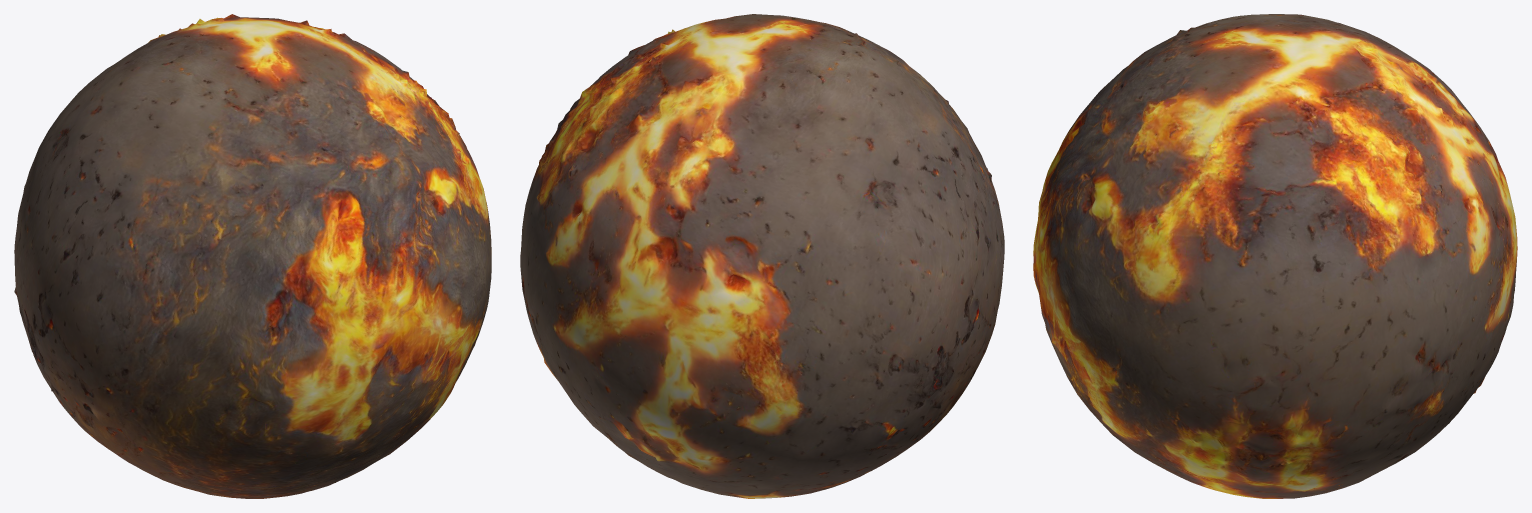
File: fiery_cannonball_medium_quality.glb
The picture shows the model from 3 angles, left to right: view 1: azimuth 30°, elevation 25°; view 2: azimuth 150°, elevation 25°; view 3: azimuth 270°, elevation 25°; orthographic projection.
Parts seen in each view (by area): view 1: Mesh1.0; view 2: Mesh1.0; view 3: Mesh1.0.
Part boxes in pixels (x1=…): Mesh1.0: x1=14, y1=14, x2=491, y2=498; Mesh1.0: x1=520, y1=14, x2=1004, y2=498; Mesh1.0: x1=1033, y1=14, x2=1517, y2=498.
Bounding box in the file's own units: 1.85 × 1.85 × 1.84.
Materials: 1 (1 with a texture image).
